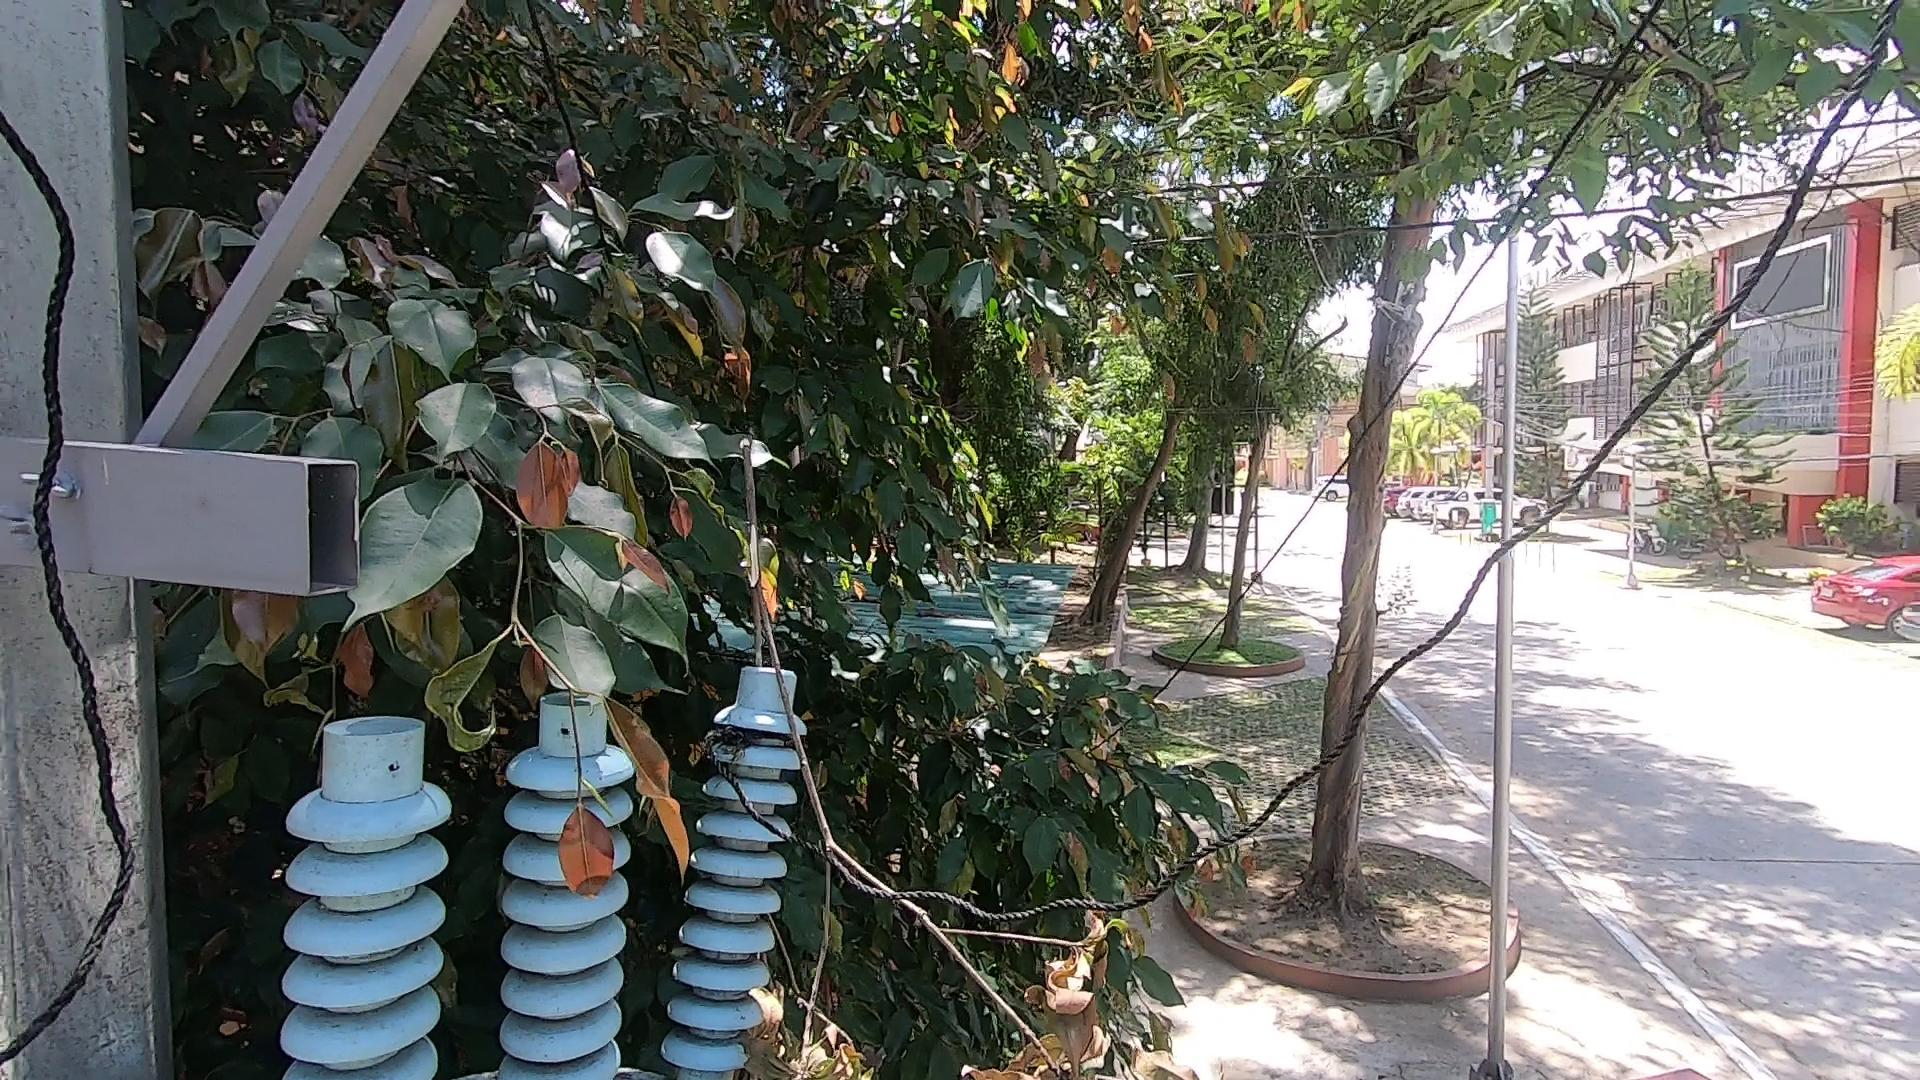branch with leaves: (702, 430, 1193, 1080)
